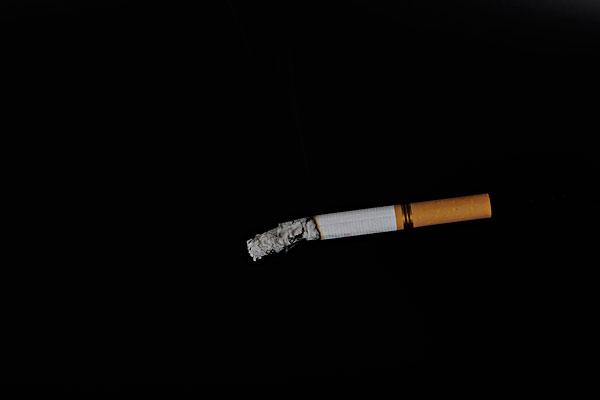smoke: (244, 193, 493, 263)
